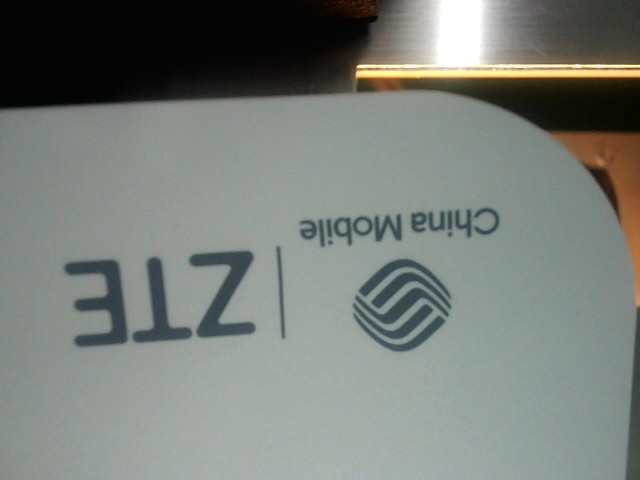AL_ZTEChinaMobile: (54, 198, 511, 354)
